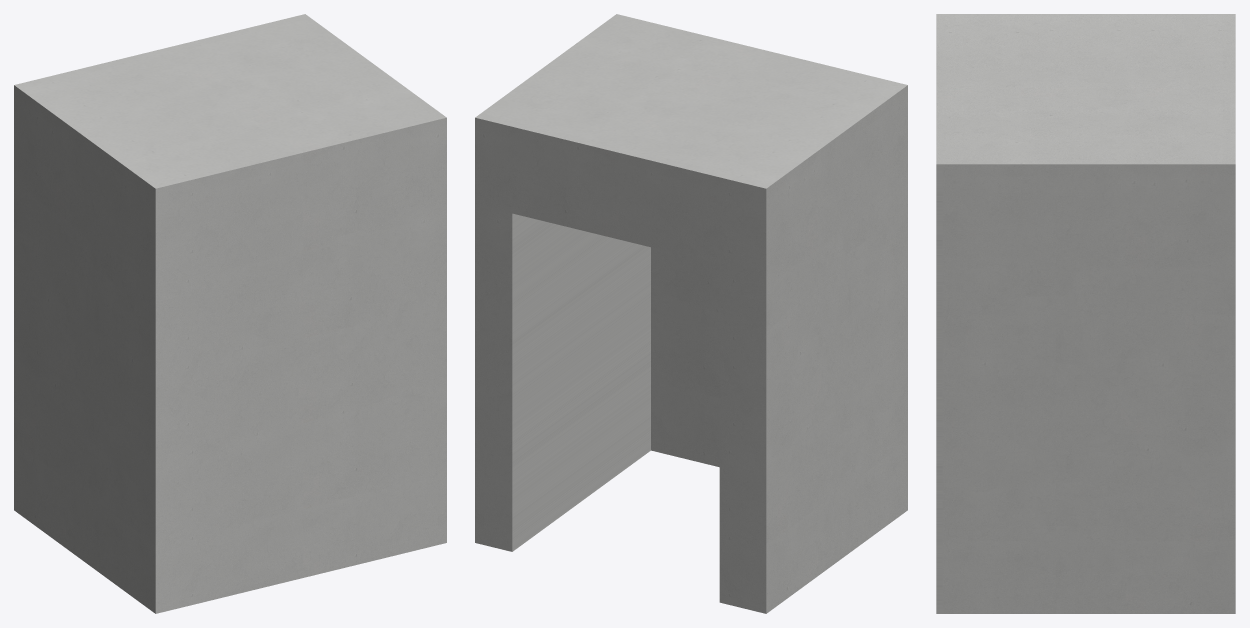
Rendered from Storge3.fbx.
3 views of the same model, side by side, from view 1: azimuth 30°, elevation 25°; view 2: azimuth 150°, elevation 25°; view 3: azimuth 270°, elevation 25° (orthographic). The views are drawn at different scales.
Parts seen in each view (by area): view 1: polySurface404; view 2: polySurface404; view 3: polySurface404.
Boxes of the visible parts, bbox=[...] form: polySurface404: bbox=[14, 14, 446, 613]; polySurface404: bbox=[475, 14, 907, 613]; polySurface404: bbox=[936, 14, 1235, 613].
Size of the model in its own units: 1.9 by 2.65 by 1.6.
1 material, 1 textured.
